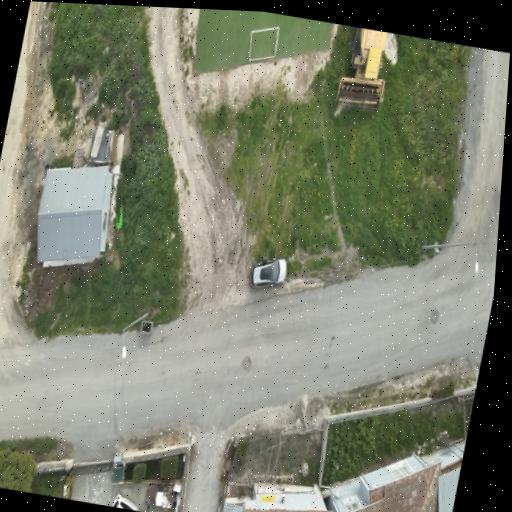car: (249, 258, 286, 286), (112, 493, 140, 511)
harvester: (335, 28, 386, 109)
